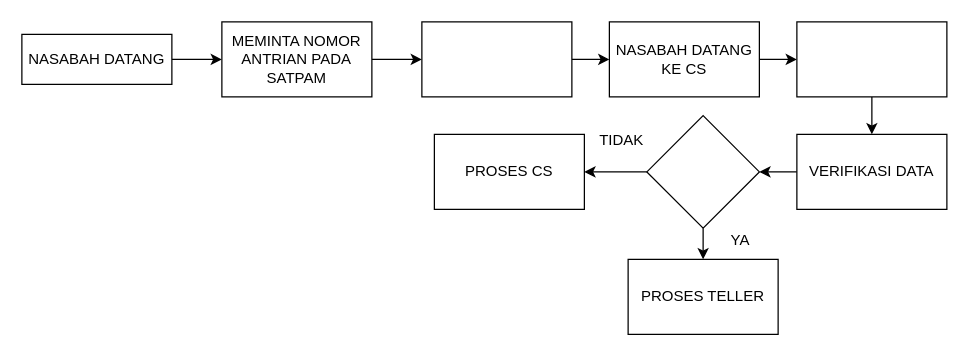
The diagram is 969 pixels wide and 356 high, and some of its shapes have lost their labels. The box of each missing label's shape, as (x1, y1, x2, y2) in pixels:
CS MEMANGGIL MENGGUNAKAN QSYS CLIENT: (421, 21, 572, 97)
KE TELLER?: (646, 114, 759, 228)
NASABAH MENYAMPAIKAN KELUHAN: (796, 21, 947, 97)
